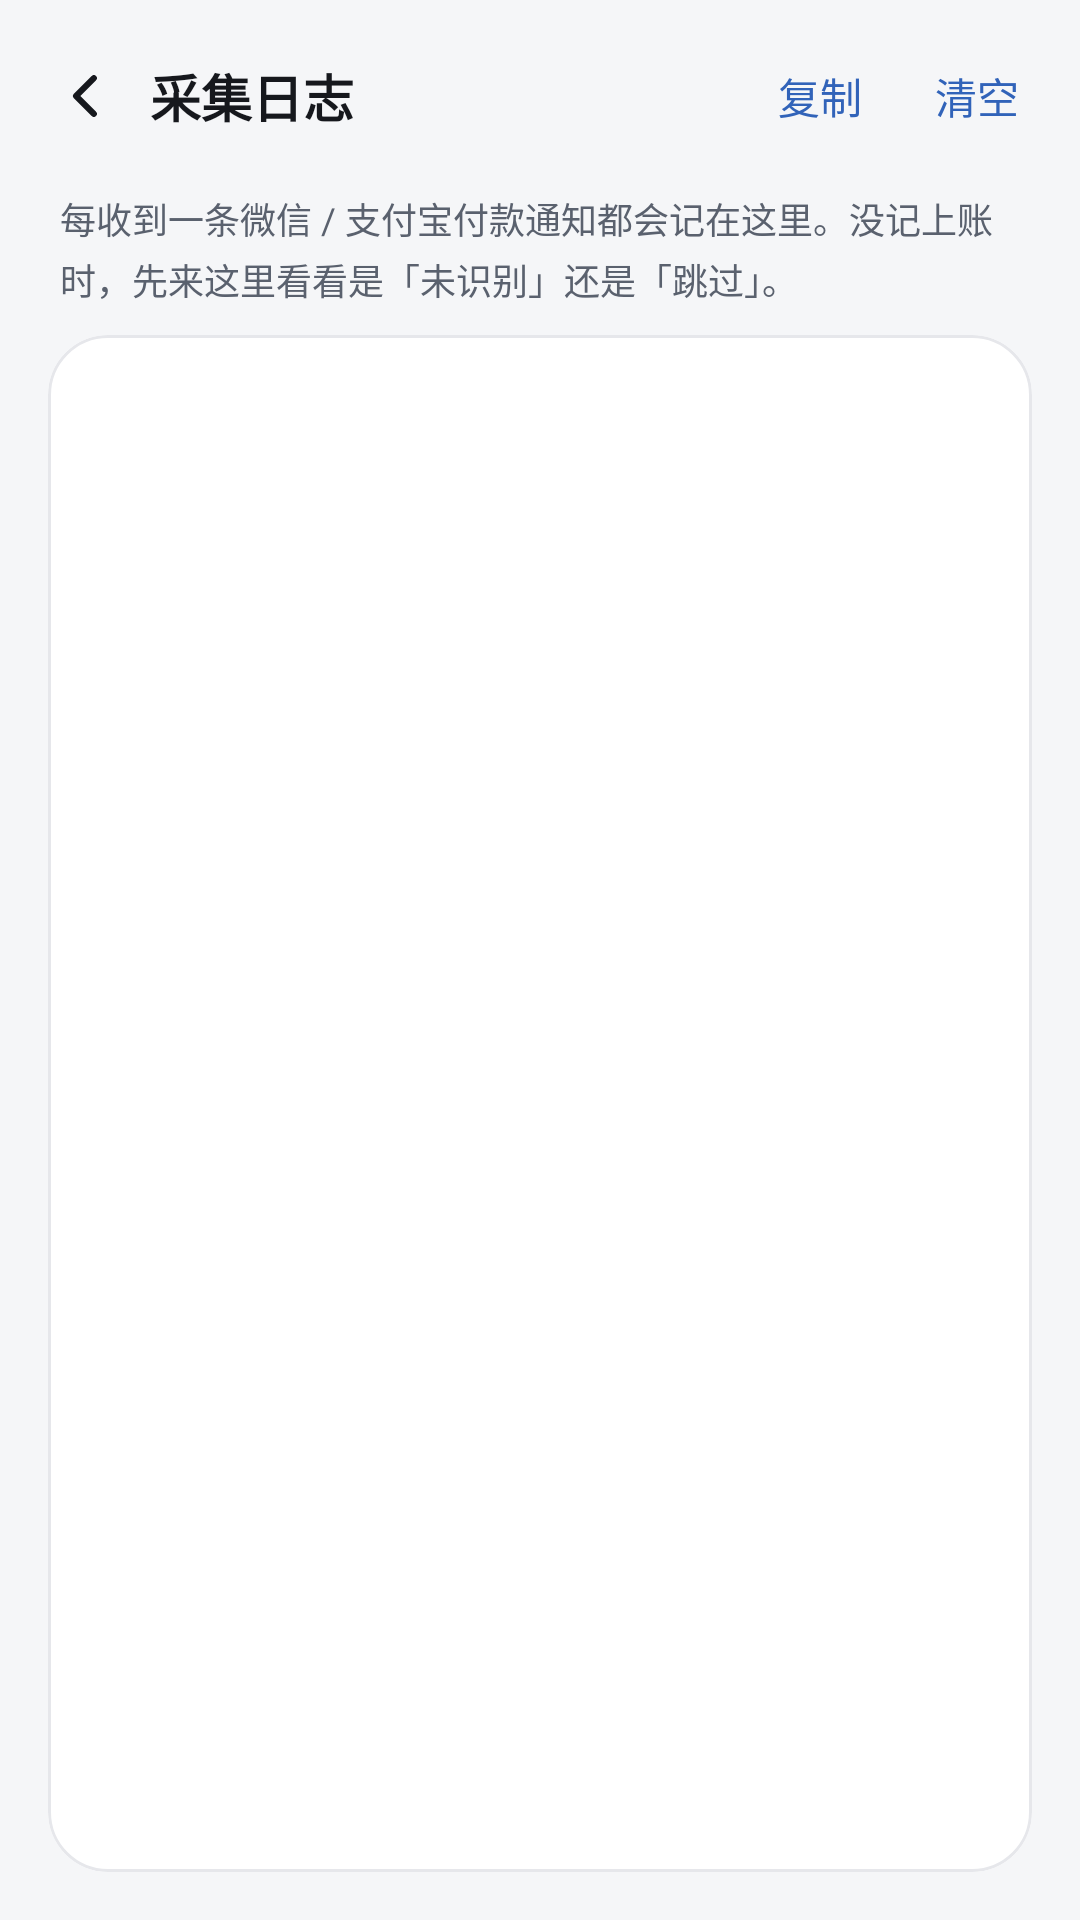

Where to tap for icons on this 1080x1920 app screen, as [x,y]:
返回: [85,96]
